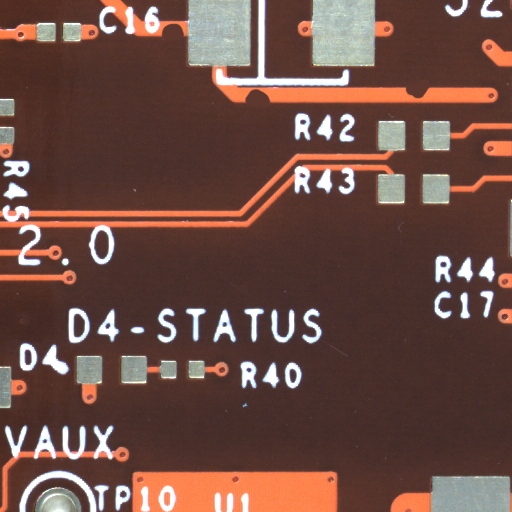Mouse_bite: (260, 97, 300, 119), (418, 90, 452, 111), (172, 30, 197, 50)
